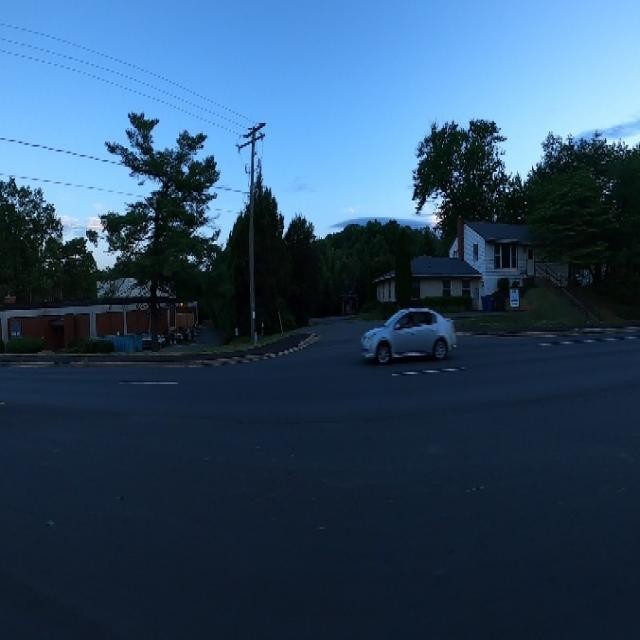car: (351, 298, 460, 381)
